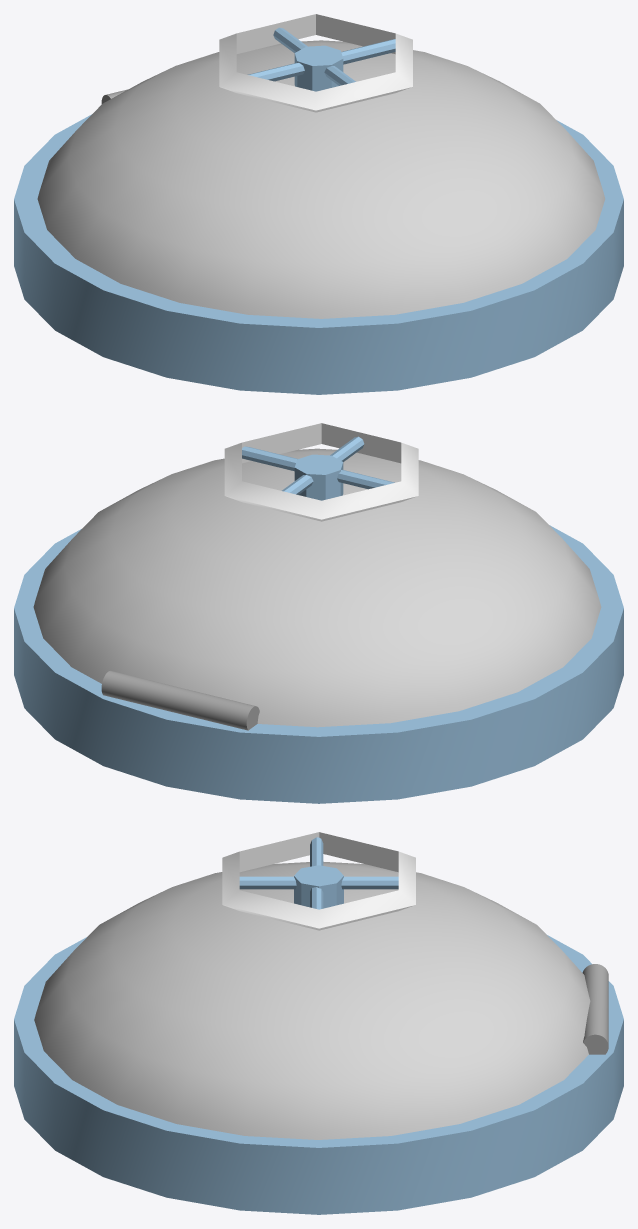
File: Luke_2.fbx
3 renders of one model, top to bottom at view 1: azimuth 30°, elevation 25°; view 2: azimuth 150°, elevation 25°; view 3: azimuth 270°, elevation 25°, orthographic.
Parts seen in each view (by area): view 1: Cylinder_5; view 2: Cylinder_5; view 3: Cylinder_5.
Boxes of the visible parts, x1,y1,x2,y2 form: Cylinder_5: (14, 14, 623, 394); Cylinder_5: (14, 423, 623, 803); Cylinder_5: (14, 832, 623, 1214).
Bounding box in the file's own units: 120 × 46.51 × 120.
